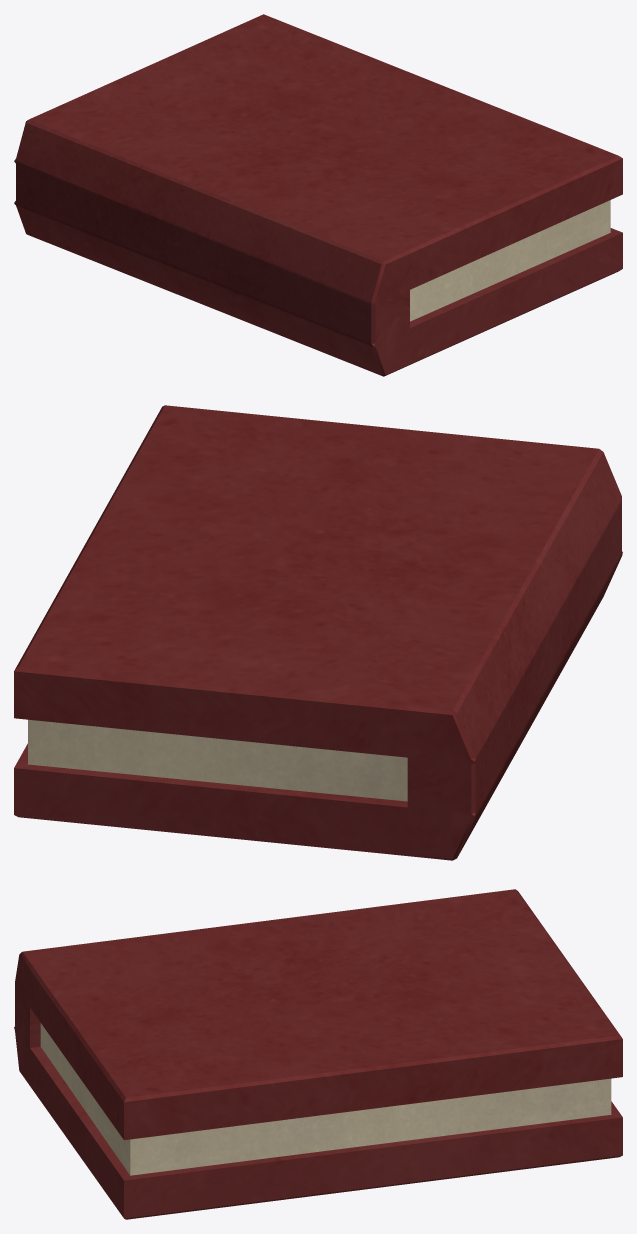
Rendered from SV_book(R).fbx.
3 renders of one model, top to bottom at view 1: azimuth 30°, elevation 25°; view 2: azimuth 150°, elevation 25°; view 3: azimuth 270°, elevation 25°, orthographic. The views are drawn at different scales.
Parts seen in each view (by area): view 1: pCube54; view 2: pCube54; view 3: pCube54.
Part boxes in pixels (x1=…): pCube54: x1=14, y1=14, x2=622, y2=376; pCube54: x1=14, y1=405, x2=622, y2=860; pCube54: x1=14, y1=889, x2=622, y2=1219.
Bounding box in the file's own units: 49.34 × 12.84 × 58.15.
Materials: 1 (1 with a texture image).
